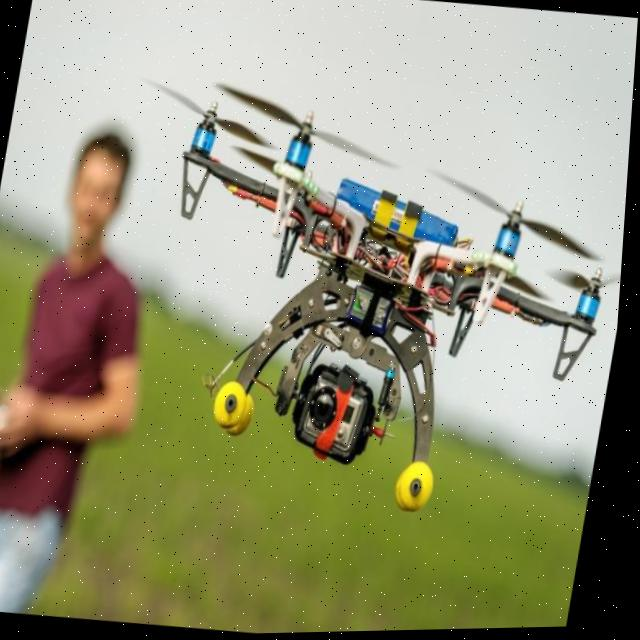drones: (106, 71, 636, 532)
